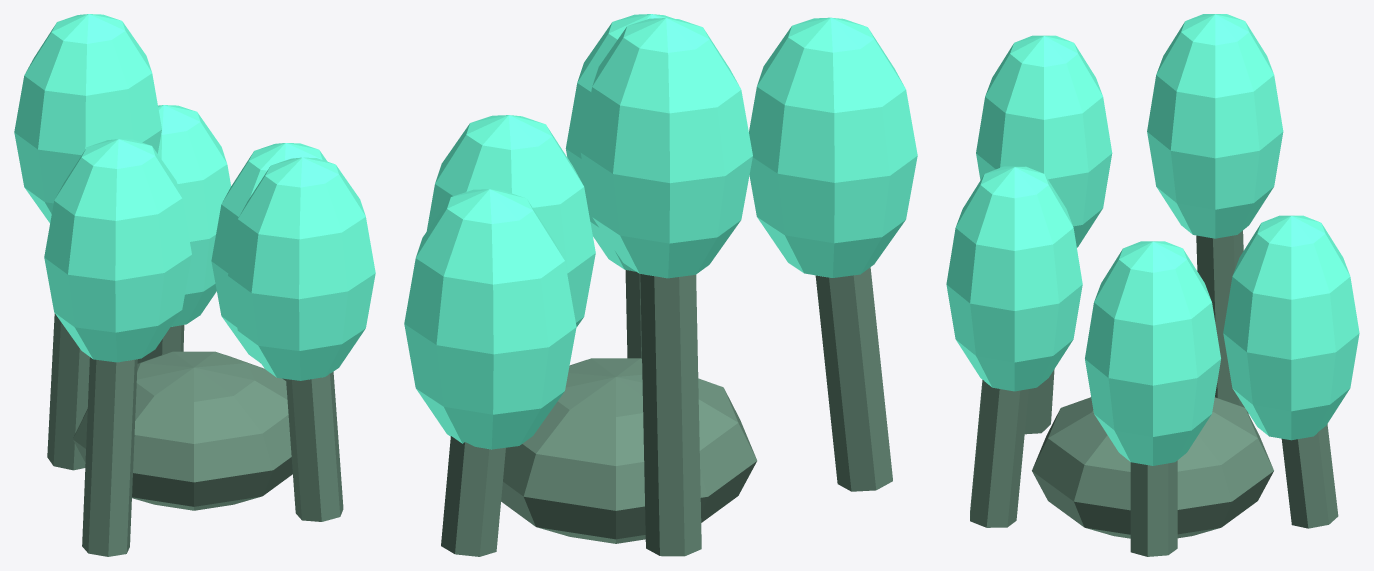
File: lumemoss-seedling.glb
3 views of the same model, side by side, from view 1: azimuth 30°, elevation 25°; view 2: azimuth 150°, elevation 25°; view 3: azimuth 270°, elevation 25° (orthographic). The views are drawn at different scales.
Parts seen in each view (by area): view 1: lumemoss.sway-pivot; view 2: lumemoss.sway-pivot; view 3: lumemoss.sway-pivot.
Boxes of the visible parts, bbox=[...] form: lumemoss.sway-pivot: bbox=[14, 14, 375, 556]; lumemoss.sway-pivot: bbox=[404, 14, 917, 556]; lumemoss.sway-pivot: bbox=[946, 14, 1359, 556].
Size of the model in its own units: 0.1369 by 0.1768 by 0.1397.
